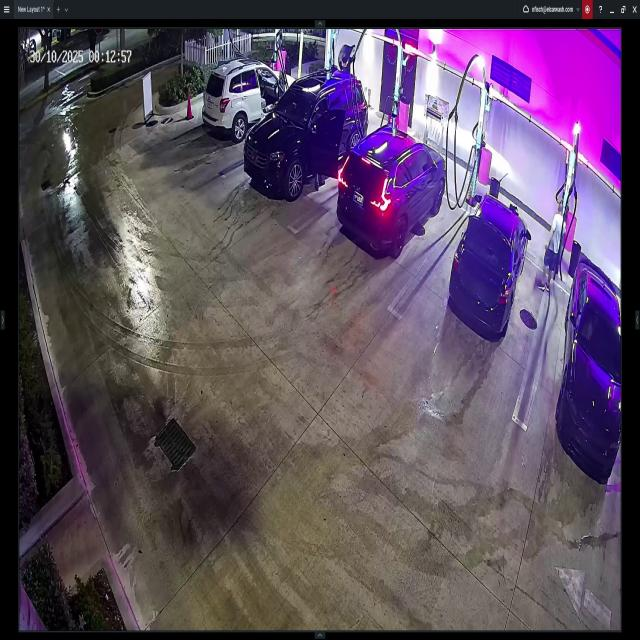Car: (247, 72, 367, 198), (554, 253, 620, 476), (339, 123, 446, 254), (452, 191, 527, 338), (204, 60, 301, 130)
